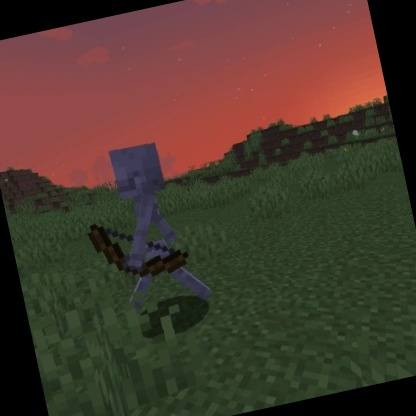skeleton: (68, 130, 217, 326)
